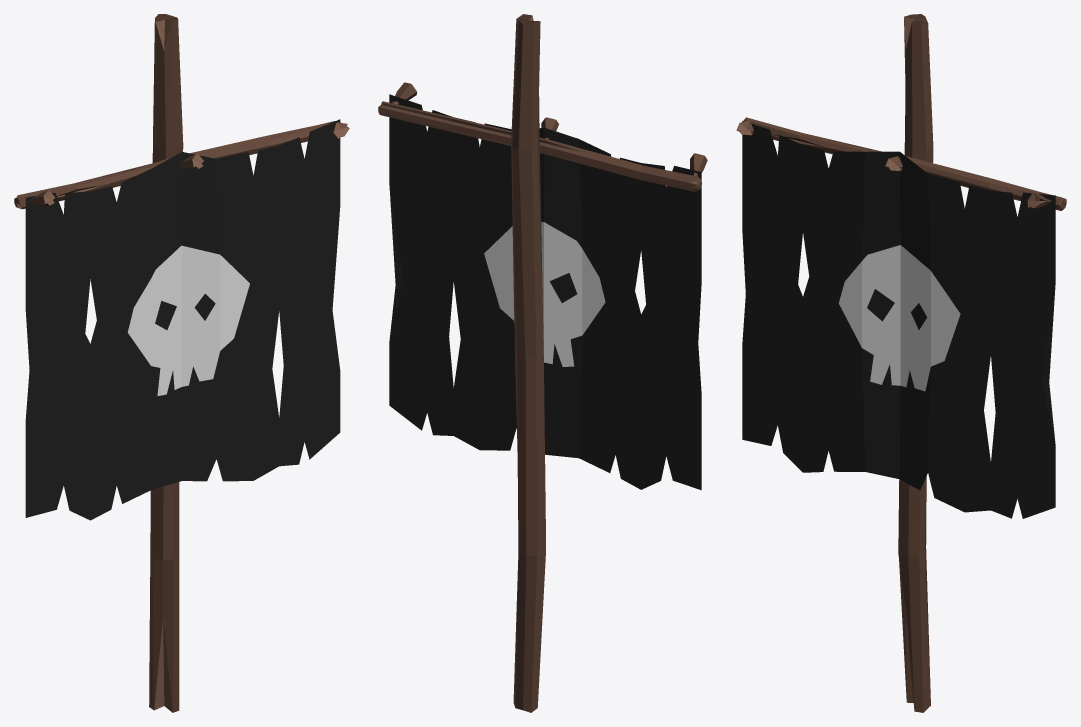
Rendered from Flag_01.glb.
3 views of the same model, side by side, from view 1: azimuth 30°, elevation 25°; view 2: azimuth 150°, elevation 25°; view 3: azimuth 330°, elevation 25° (orthographic).
Parts seen in each view (by area): view 1: Flag_01; view 2: Flag_01; view 3: Flag_01.
Boxes of the visible parts, x1,y1,x2,y2 form: Flag_01: [14, 14, 349, 712]; Flag_01: [378, 14, 707, 712]; Flag_01: [736, 14, 1066, 712].
Size of what is drawn, in the model's own units: 1.59 by 3.26 by 0.3268.
Materials: 1 (1 with a texture image).
